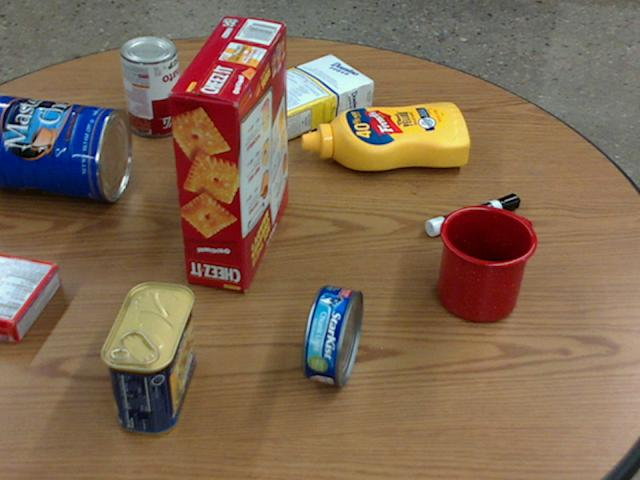cracker_box: (167, 17, 285, 292)
gelatin_box: (0, 253, 61, 342)
large_marker: (425, 194, 520, 236)
master_chef_can: (0, 95, 129, 201)
mug: (437, 204, 537, 322)
mustard_bottle: (300, 104, 469, 169)
potted_meat_can: (102, 282, 193, 436)
sugar_box: (222, 52, 374, 149)
tomato_soup_can: (118, 36, 180, 136)
tuna_fish_can: (301, 285, 364, 386)
